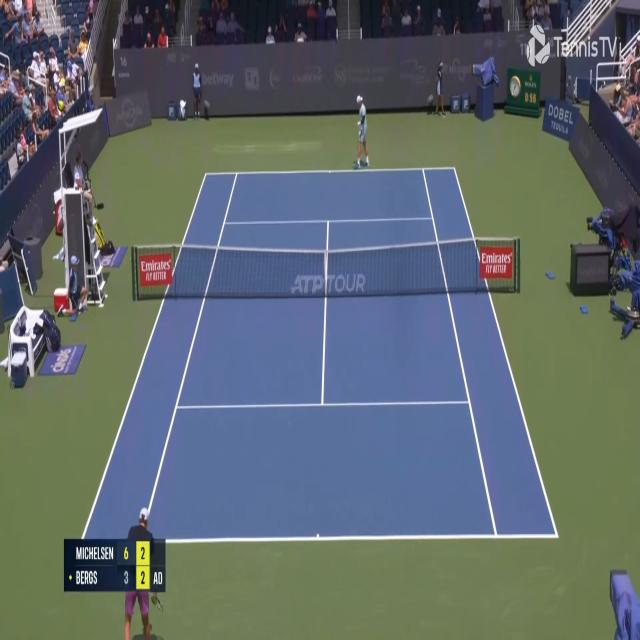tennis-player: (122, 508, 166, 640), (354, 92, 369, 170)
